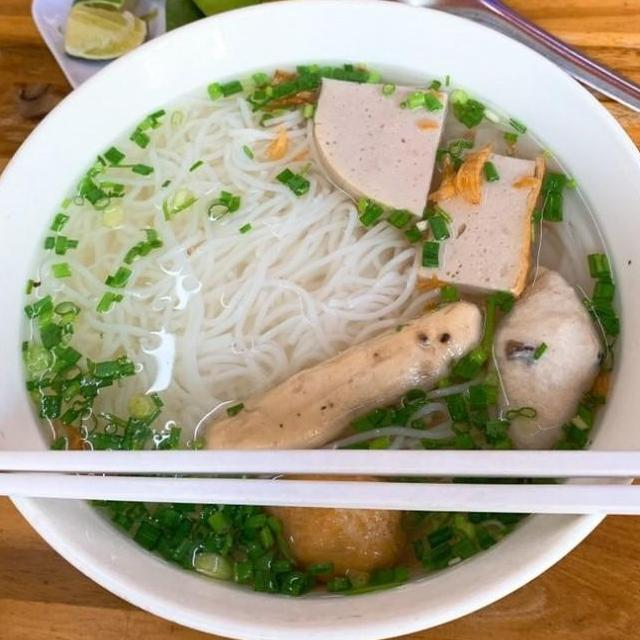bun: (46, 89, 422, 414)
vien moc: (481, 269, 606, 456)
